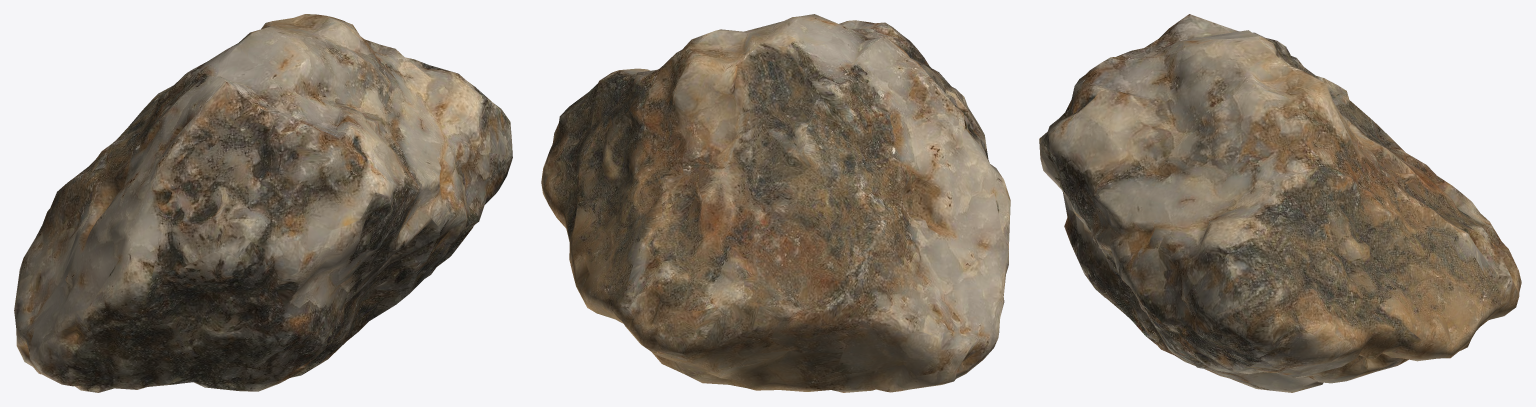
File: st_rock_4.gltf
The picture shows the model from 3 angles, left to right: view 1: azimuth 30°, elevation 25°; view 2: azimuth 150°, elevation 25°; view 3: azimuth 270°, elevation 25°; orthographic projection. The views are drawn at different scales.
Parts seen in each view (by area): view 1: Rock_4; view 2: Rock_4; view 3: Rock_4.
Boxes of the visible parts, <box> form: Rock_4: <box>14,14,512,392</box>; Rock_4: <box>541,14,1010,392</box>; Rock_4: <box>1039,14,1521,392</box>.
Size of the model in its own units: 0.5103 by 0.3359 by 0.4452.
Materials: 1 (1 with a texture image).
